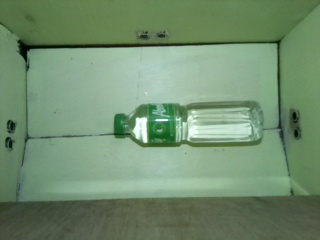bottle: (113, 101, 265, 145)
